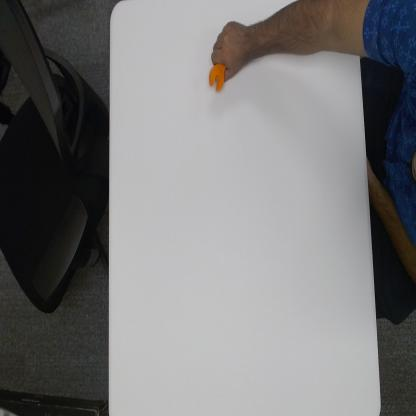Arm: (252, 0, 409, 63)
Hand: (211, 17, 252, 82)
Screwdriver: (206, 61, 226, 94)
